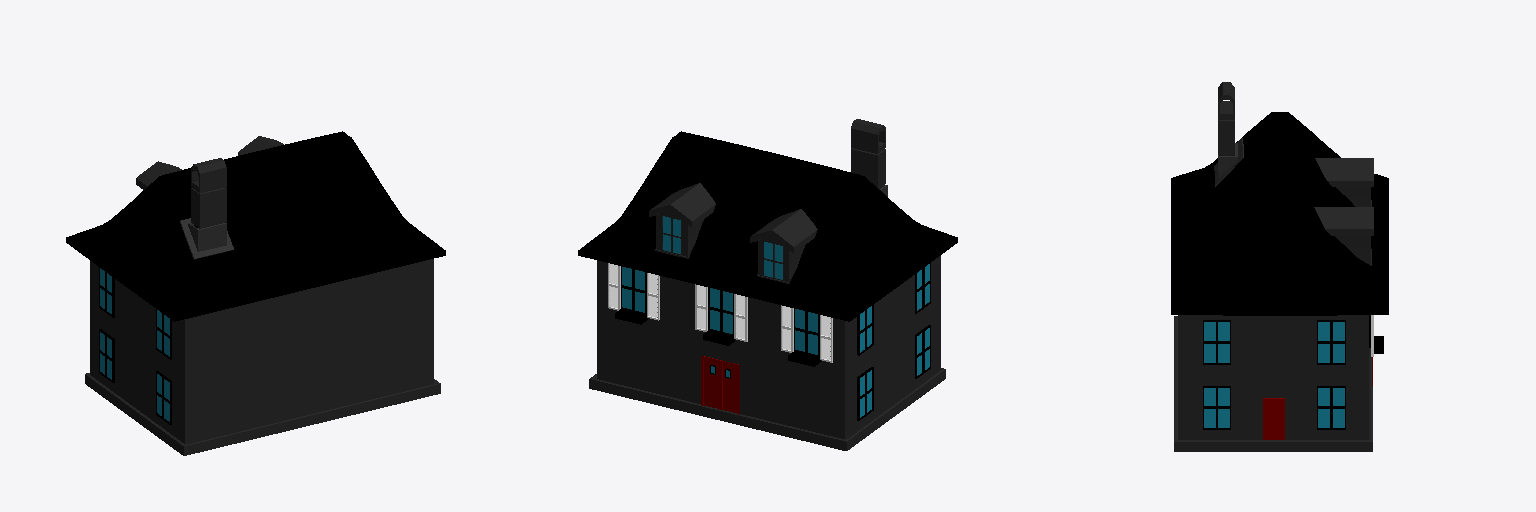
File: Test_Home_1_obj.obj
3 views of the same model, side by side, from view 1: azimuth 30°, elevation 25°; view 2: azimuth 150°, elevation 25°; view 3: azimuth 270°, elevation 25° (orthographic).
Parts seen in each view (by area): view 1: door011; view 2: door011; view 3: door011.
Part boxes in pixels (x1,y1,x2,y2): door011: (66,131,445,455); door011: (578,119,957,450); door011: (1171,82,1388,451).
Bounding box in the file's own units: 3535 × 3258 × 2449.